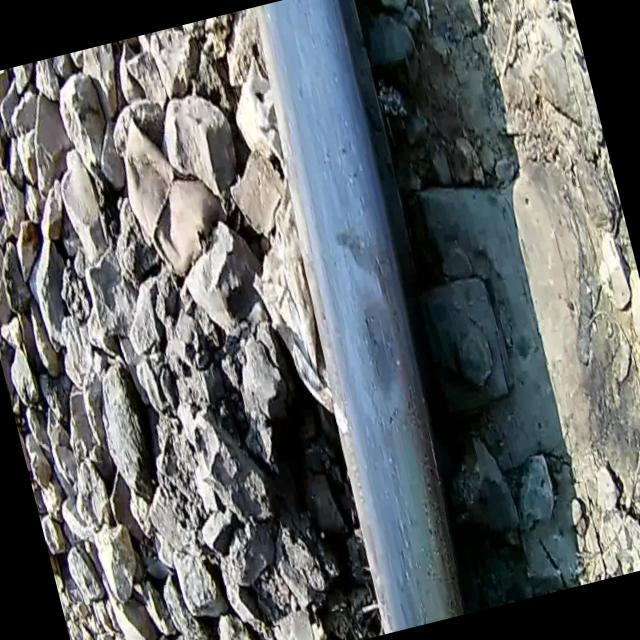Squats: (208, 0, 519, 639)
